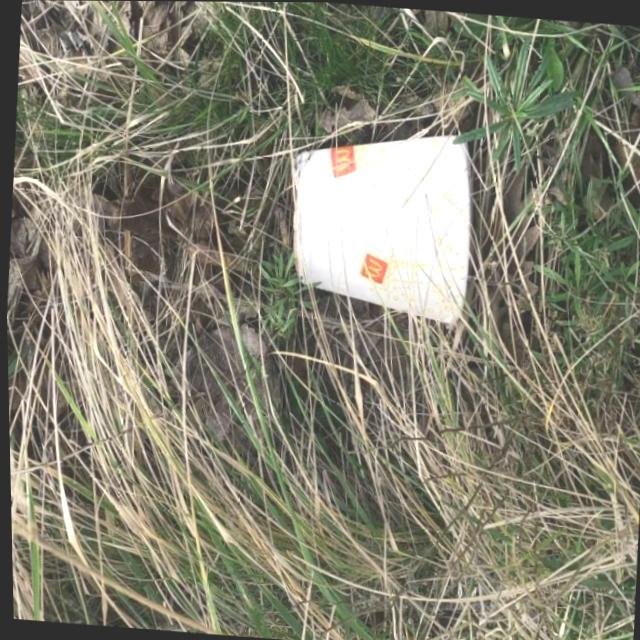Cup: (278, 116, 481, 330)
